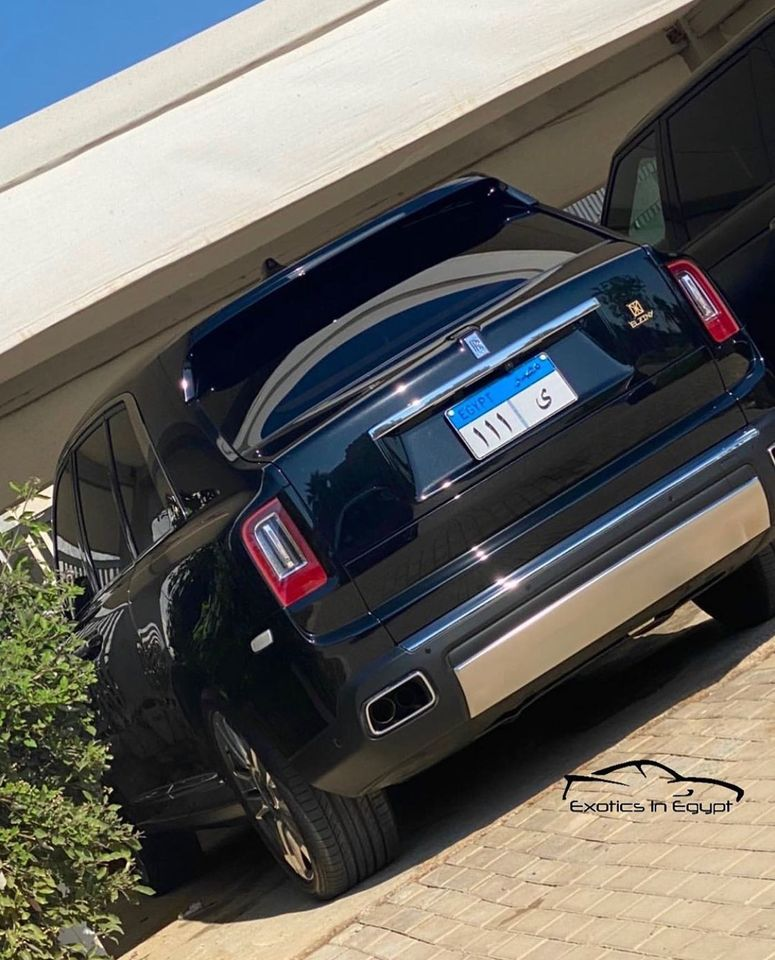carpl: (450, 362, 582, 460)
